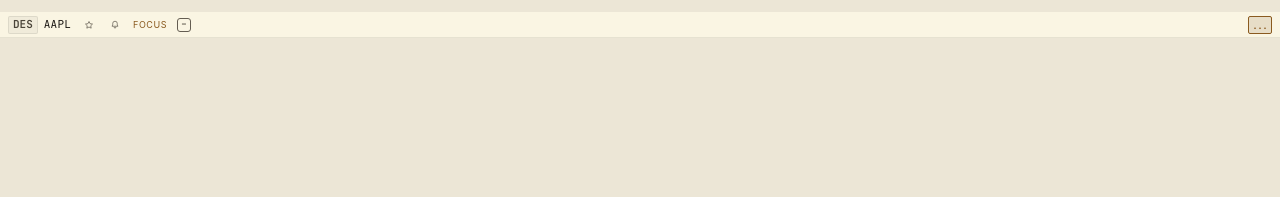
Scenario: PaneChrome — link-group badge › menu is closed until the badge is clicked
The image size is (1280, 197).
Click the button with test id "pane-chrome-link-badge". click: [184, 24]
box: x1=177 y1=18 x2=191 y2=32
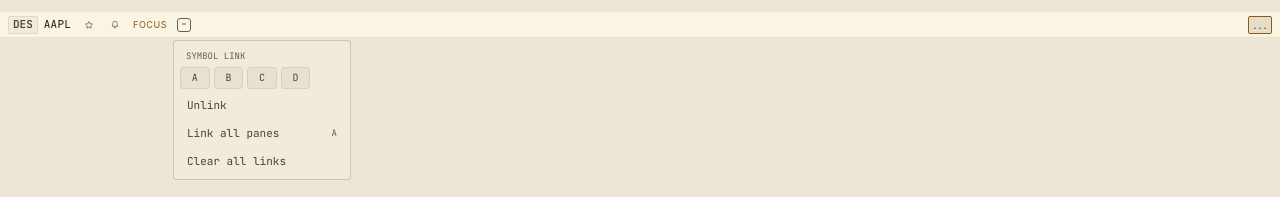
Check: the menu with test id "pane-chrome-link-menu" is shown, box x1=173 y1=40 x2=351 y2=180
